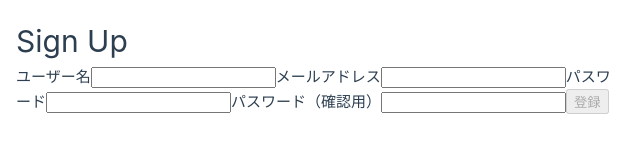
Test: SignUpPage › インタラクション › 登録時にサーバーからエラーが返された場合、エラーメッセージを表示
This screenshot has width=626, height=160.
Type "Error1" into the field labelled "ユーザー名" at (183, 77), box x1=91 y1=66 x2=276 y2=88
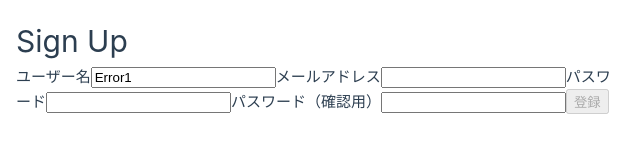
Type "usako@example.com" into the field labelled "メールアドレス" at (473, 77), box x1=381 y1=66 x2=566 y2=88
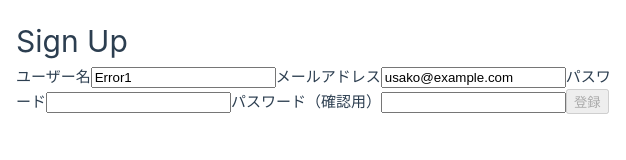
Type "hogehogehoge" into the password field labelled "パスワード" at (138, 102), box x1=46 y1=92 x2=231 y2=112
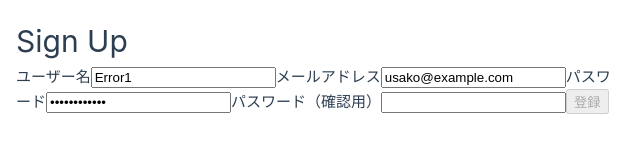
Type "hogehogehoge" into the password field labelled "パスワード（確認用）" at (474, 102), box x1=381 y1=92 x2=566 y2=112
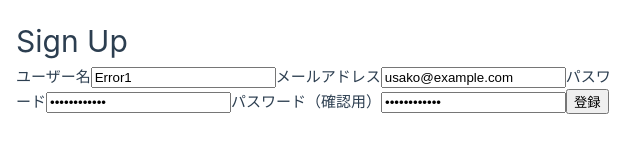
Click the button "登録" at (587, 101), box x1=566 y1=88 x2=609 y2=114
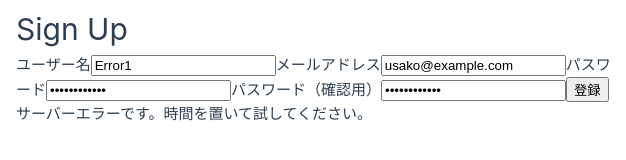
Check: the text "サーバーエラーです。時間を置いて試してください。" is shown, box x1=16 y1=104 x2=372 y2=122
